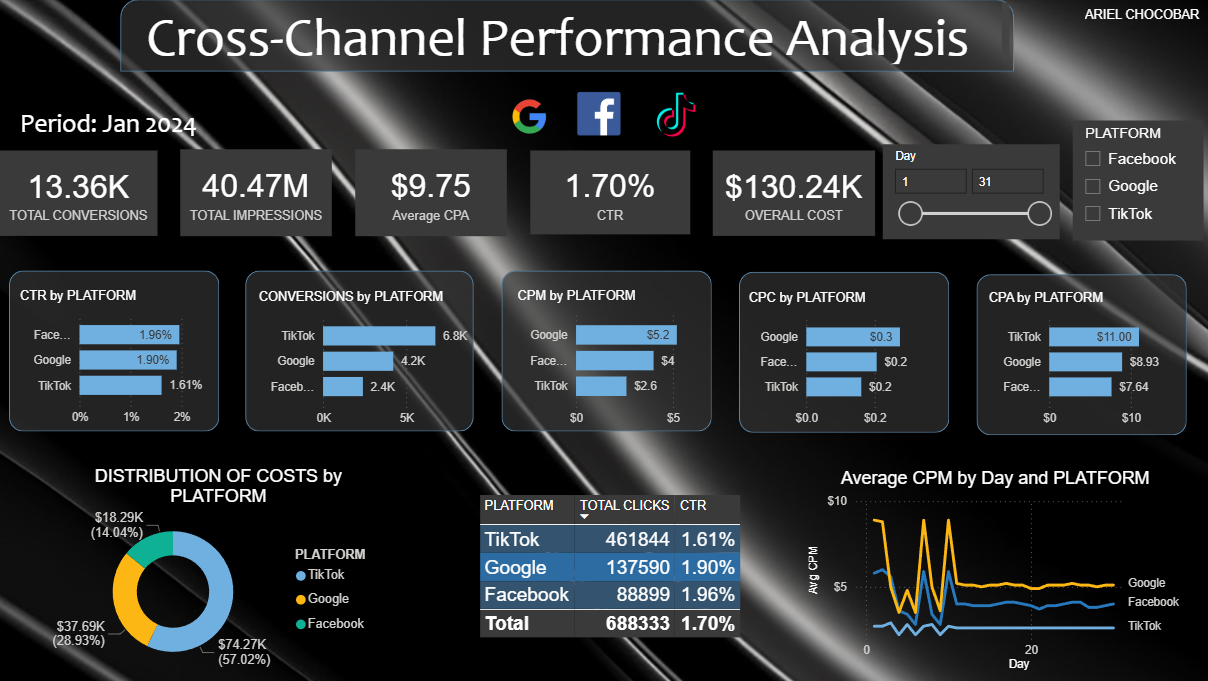

The page's visual inventory and layout, read from the dashboard file:
{"tool":"powerbi","page":{"name":"Page 1","canvas":[1280,720],"ordinal":0},"visuals":[{"type":"shape","box":[272,283.3,237.5,167.5],"z":0},{"type":"shape","box":[25.7,283.3,218.8,167.5],"z":1000},{"type":"shape","box":[537.9,283.5,218.8,167.5],"z":2000},{"type":"card","fields":{"Values":["Sum(UNIFIED_MARKETING_INSIGHTS.IMPRESSIONS)"]},"box":[204.5,157.8,157.5,90],"z":3000},{"type":"shape","box":[1031.9,287,218.8,167.5],"z":3000,"group":"g1"},{"type":"shape","box":[784.9,284.8,218.8,167.5],"z":4000},{"type":"card","title":"Total Conversions","fields":{"Values":["Sum(UNIFIED_MARKETING_INSIGHTS.CONVERSIONS)"]},"box":[15.4,158.4,165,88.8],"z":5000},{"type":"card","fields":{"Values":["Sum(UNIFIED_MARKETING_INSIGHTS.COST)"]},"box":[757.9,158.4,168.8,88.8],"z":6000},{"type":"donutChart","fields":{"Category":["UNIFIED_MARKETING_INSIGHTS.PLATFORM"],"Y":["Sum(UNIFIED_MARKETING_INSIGHTS.COST)"]},"box":[65,486.1,357.4,220.9],"z":7000},{"type":"clusteredBarChart","title":"CONVERSIONS by PLATFORM","fields":{"Category":["UNIFIED_MARKETING_INSIGHTS.PLATFORM"],"Y":["Sum(UNIFIED_MARKETING_INSIGHTS.CONVERSIONS)"]},"box":[280.4,303.3,237.5,150],"z":8000},{"type":"slicer","fields":{"Values":["UNIFIED_MARKETING_INSIGHTS.DATE.Variation.Date Hierarchy.Day"]},"box":[934.2,152,183.8,98.8],"z":9000},{"type":"slicer","fields":{"Values":["UNIFIED_MARKETING_INSIGHTS.PLATFORM"]},"box":[1131.7,127,136.2,125],"z":10000},{"type":"clusteredBarChart","fields":{"Category":["UNIFIED_MARKETING_INSIGHTS.PLATFORM"],"Y":["UNIFIED_MARKETING_INSIGHTS.CTR"]},"box":[32.9,302,217.5,150],"z":11000},{"type":"card","fields":{"Values":["UNIFIED_MARKETING_INSIGHTS.Avg CPA"]},"box":[386,157.8,157.5,90],"z":12000},{"type":"card","fields":{"Values":["UNIFIED_MARKETING_INSIGHTS.CTR"]},"box":[567.6,159,166.2,87.5],"z":13000},{"type":"clusteredBarChart","title":"CPA by PLATFORM","fields":{"Category":["UNIFIED_MARKETING_INSIGHTS.PLATFORM"],"Y":["UNIFIED_MARKETING_INSIGHTS.Avg CPA"]},"box":[1039.4,304.5,218.8,148.8],"z":13000,"group":"g1"},{"type":"clusteredBarChart","title":"CPC by PLATFORM","fields":{"Category":["UNIFIED_MARKETING_INSIGHTS.PLATFORM"],"Y":["UNIFIED_MARKETING_INSIGHTS.Avg CPC"]},"box":[790.7,304.5,206.2,148.8],"z":14000},{"type":"tableEx","fields":{"Values":["UNIFIED_MARKETING_INSIGHTS.PLATFORM","Sum(UNIFIED_MARKETING_INSIGHTS.CLICKS)","UNIFIED_MARKETING_INSIGHTS.CTR"]},"box":[509.5,516,305.4,161.2],"z":15000},{"type":"lineChart","title":"Average CPM by Day and PLATFORM","fields":{"Category":["UNIFIED_MARKETING_INSIGHTS.DATE.Variation.Date Hierarchy.Day"],"Y":["UNIFIED_MARKETING_INSIGHTS.Avg CPM"],"Series":["UNIFIED_MARKETING_INSIGHTS.PLATFORM"]},"box":[852.6,488.7,397.7,215.7],"z":16000},{"type":"group","id":"g1","title":"Group 1","box":[1031.9,287,226.2,167.5],"z":17000},{"type":"shape","box":[141.7,1.3,929.2,75.4],"z":18000},{"type":"clusteredBarChart","title":"CPM by PLATFORM","fields":{"Category":["UNIFIED_MARKETING_INSIGHTS.PLATFORM"],"Y":["UNIFIED_MARKETING_INSIGHTS.Avg CPM"]},"box":[550,302,211.2,151.2],"z":19000},{"type":"textbox","box":[163.8,0,907.1,74.1],"z":20000},{"type":"image","box":[540.6,89.7,53.3,67.6],"z":21000},{"type":"image","box":[677.1,79.3,84.5,84.5],"z":22000},{"type":"image","box":[601.7,81.9,75.4,76.7],"z":23000},{"type":"textbox","box":[32.5,109.2,220.9,49.4],"z":24000},{"type":"textbox","box":[1139.6,5.2,140.4,33.8],"z":24001}]}

Visuals, with their boxes in screenshot pixels (x1, y1, x2, y2), scaled from the page's 1280x720 canvas onto the 1208x681 screenshot:
shape: region(257, 268, 481, 426)
shape: region(24, 268, 231, 426)
shape: region(508, 268, 714, 427)
card - Sum(UNIFIED_MARKETING_INSIGHTS.IMPRESSIONS): region(193, 149, 342, 234)
shape: region(974, 271, 1180, 430)
shape: region(741, 269, 947, 428)
"Total Conversions" card: region(15, 150, 170, 234)
card - Sum(UNIFIED_MARKETING_INSIGHTS.COST): region(715, 150, 875, 234)
donutChart - UNIFIED_MARKETING_INSIGHTS.PLATFORM x Sum(UNIFIED_MARKETING_INSIGHTS.COST): region(61, 460, 399, 669)
"CONVERSIONS by PLATFORM" clusteredBarChart: region(265, 287, 489, 429)
slicer - UNIFIED_MARKETING_INSIGHTS.DATE.Variation.Date Hierarchy.Day: region(882, 144, 1055, 237)
slicer - UNIFIED_MARKETING_INSIGHTS.PLATFORM: region(1068, 120, 1197, 238)
clusteredBarChart - UNIFIED_MARKETING_INSIGHTS.PLATFORM x UNIFIED_MARKETING_INSIGHTS.CTR: region(31, 286, 236, 428)
card - UNIFIED_MARKETING_INSIGHTS.Avg CPA: region(364, 149, 513, 234)
card - UNIFIED_MARKETING_INSIGHTS.CTR: region(536, 150, 693, 233)
"CPA by PLATFORM" clusteredBarChart: region(981, 288, 1187, 429)
"CPC by PLATFORM" clusteredBarChart: region(746, 288, 941, 429)
tableEx - UNIFIED_MARKETING_INSIGHTS.PLATFORM x Sum(UNIFIED_MARKETING_INSIGHTS.CLICKS): region(481, 488, 769, 641)
"Average CPM by Day and PLATFORM" lineChart: region(805, 462, 1180, 666)
"Group 1" group: region(974, 271, 1187, 430)
shape: region(134, 1, 1011, 73)
"CPM by PLATFORM" clusteredBarChart: region(519, 286, 718, 429)
textbox: region(155, 0, 1011, 70)
image: region(510, 85, 560, 149)
image: region(639, 75, 719, 155)
image: region(568, 77, 639, 150)
textbox: region(31, 103, 239, 150)
textbox: region(1075, 5, 1207, 37)
